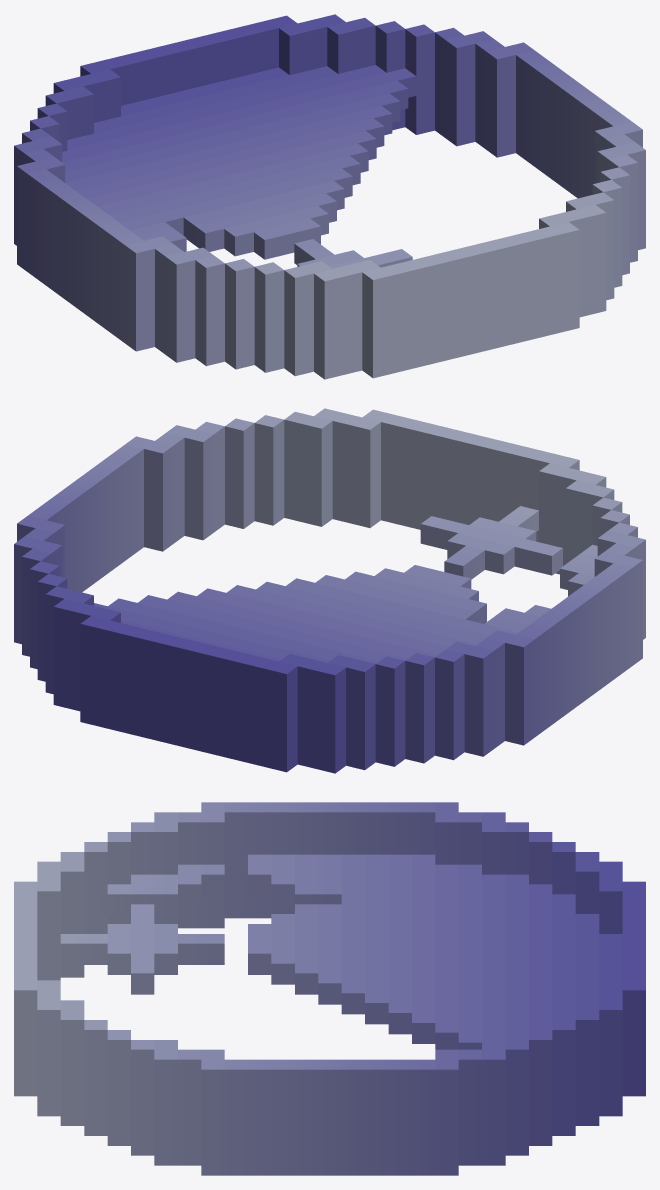
The model's file is Coin_Test_01.fbx.
3 views of the same model, one above another, from view 1: azimuth 30°, elevation 25°; view 2: azimuth 150°, elevation 25°; view 3: azimuth 270°, elevation 25° (orthographic). The views are drawn at different scales.
Visible parts, largest first — view 1: Disc; view 2: Disc; view 3: Disc.
Part boxes in pixels (bbox=[...]): Disc: bbox=[14, 14, 645, 379]; Disc: bbox=[14, 408, 645, 773]; Disc: bbox=[14, 802, 645, 1175].
Bounding box in the file's own units: 27 × 5 × 27.
